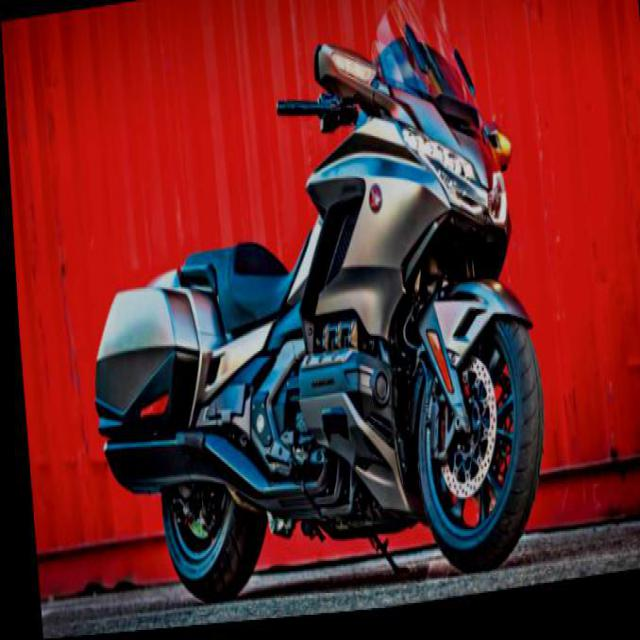Gold Wing: (66, 0, 552, 628)
